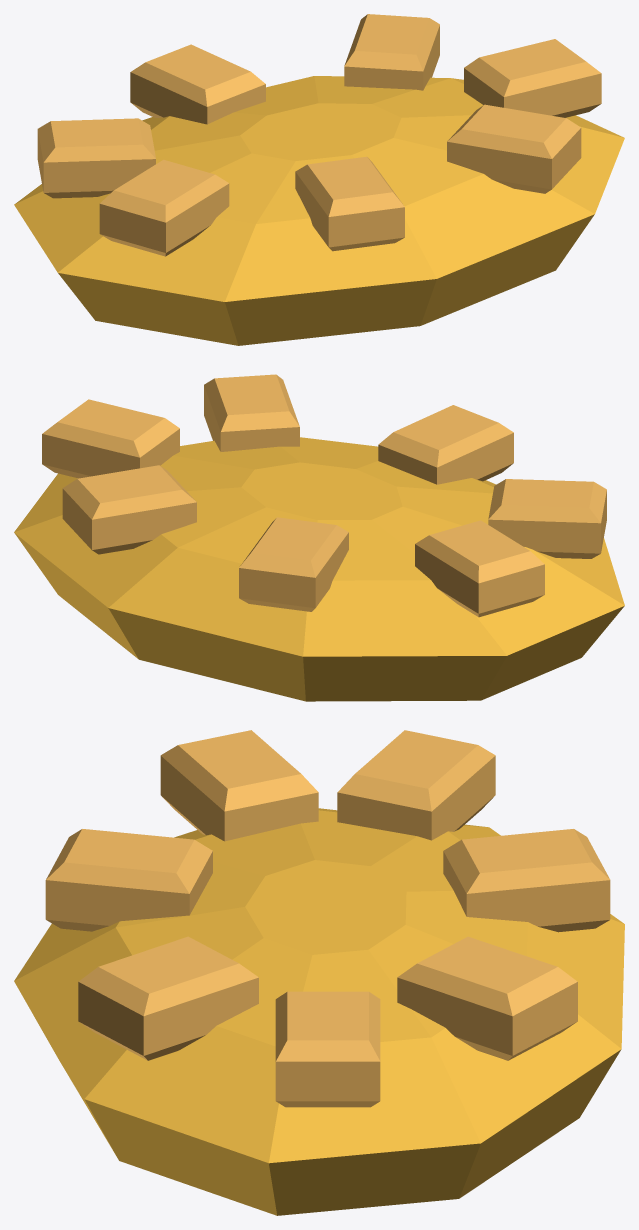
Rendered from scoop_y.obj.
3 renders of one model, top to bottom at view 1: azimuth 30°, elevation 25°; view 2: azimuth 150°, elevation 25°; view 3: azimuth 270°, elevation 25°, orthographic. The views are drawn at different scales.
Parts seen in each view (by area): view 1: scoop_y; view 2: scoop_y; view 3: scoop_y.
Part boxes in pixels (x1,y1,x2,y2): scoop_y: [14, 14, 624, 345]; scoop_y: [14, 374, 624, 701]; scoop_y: [14, 730, 624, 1215].
Size of the model in its own units: 0.3171 by 0.0914 by 0.2277.
